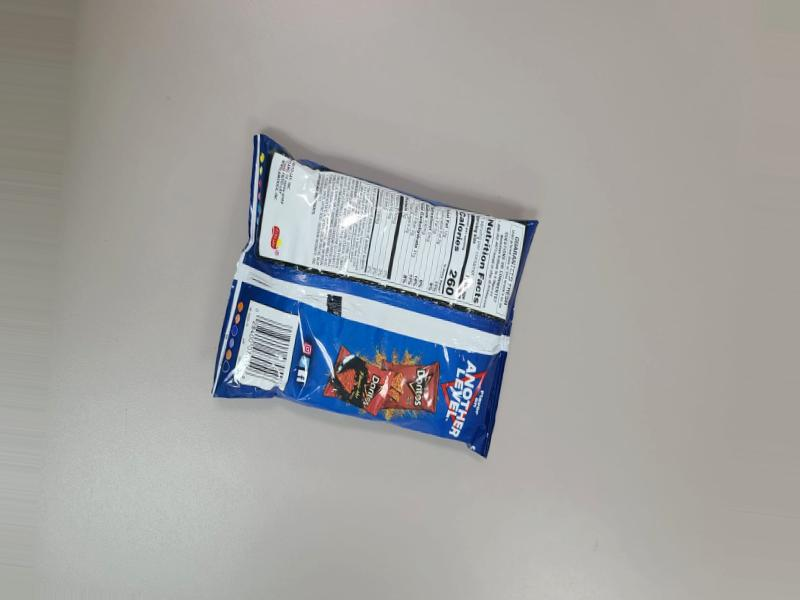doritos: (209, 130, 519, 481)
